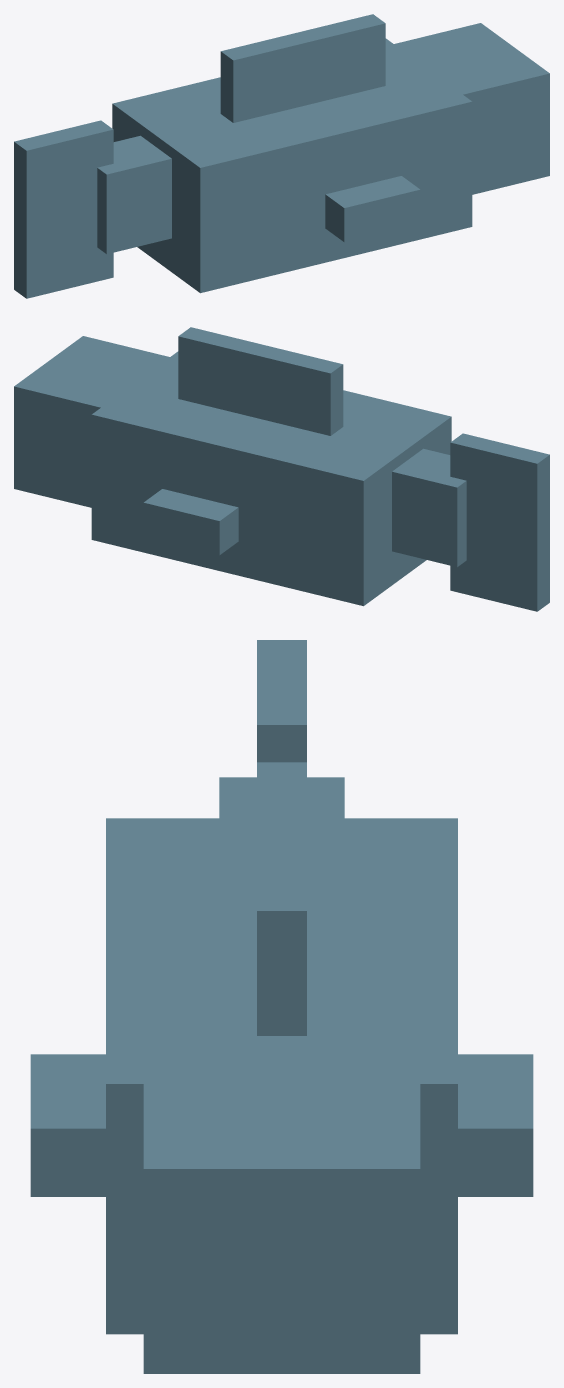
The model's file is fish_harbor_pompano.glb.
3 renders of one model, top to bottom at view 1: azimuth 30°, elevation 25°; view 2: azimuth 150°, elevation 25°; view 3: azimuth 270°, elevation 25°, orthographic. The views are drawn at different scales.
Parts seen in each view (by area): view 1: species.harbor_pompano; view 2: species.harbor_pompano; view 3: species.harbor_pompano.
Boxes of the visible parts, box(x1,y1,x2,y2) form: species.harbor_pompano: box(14, 14, 549, 298); species.harbor_pompano: box(14, 327, 549, 611); species.harbor_pompano: box(30, 640, 533, 1373).
Bounding box in the file's own units: 0.3 × 0.1088 × 0.1319.
